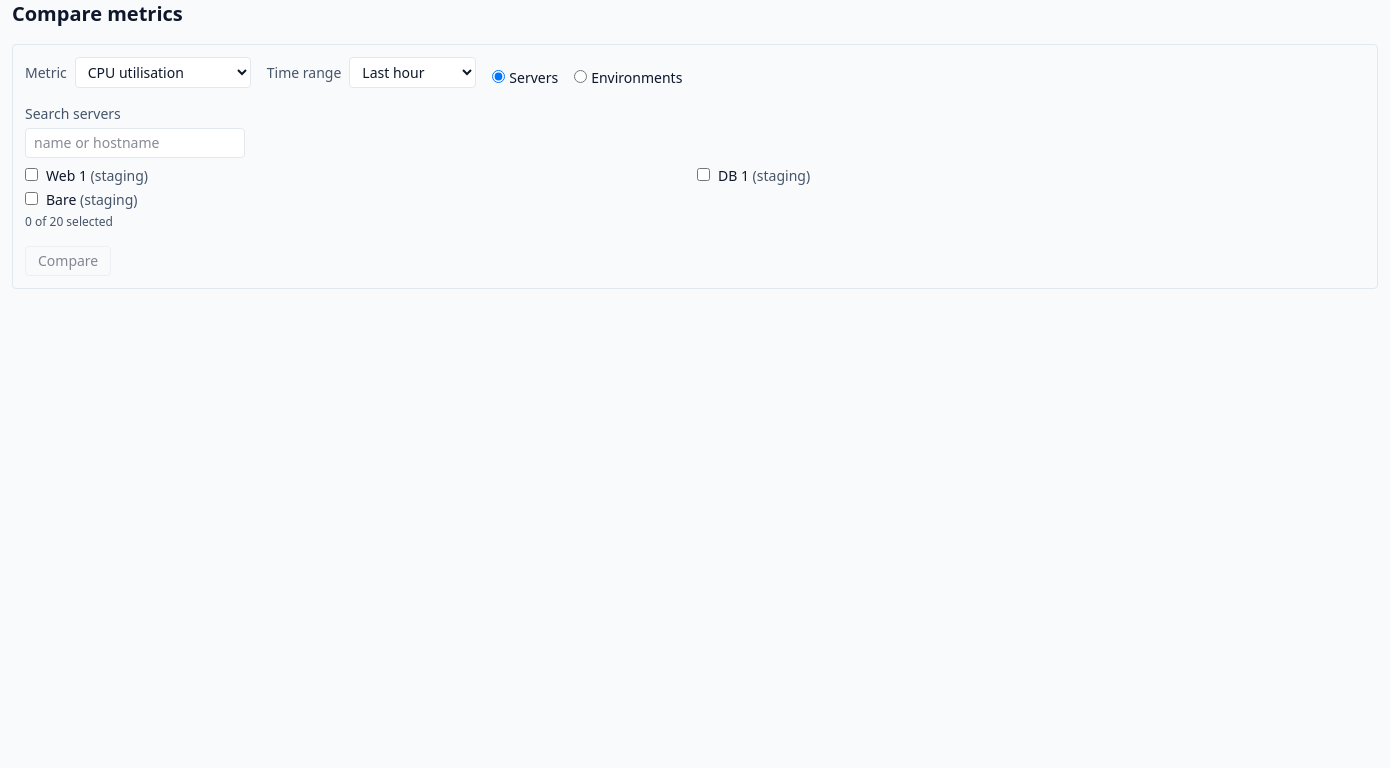
Test: Compare › posts exactly the selection and a window, with no query in it
What coordinates should you click on to do the following:
click the checkbox labelled "Web 1 (staging)"
I would click on:
 (32, 174)
Its box is [25,168,38,181].
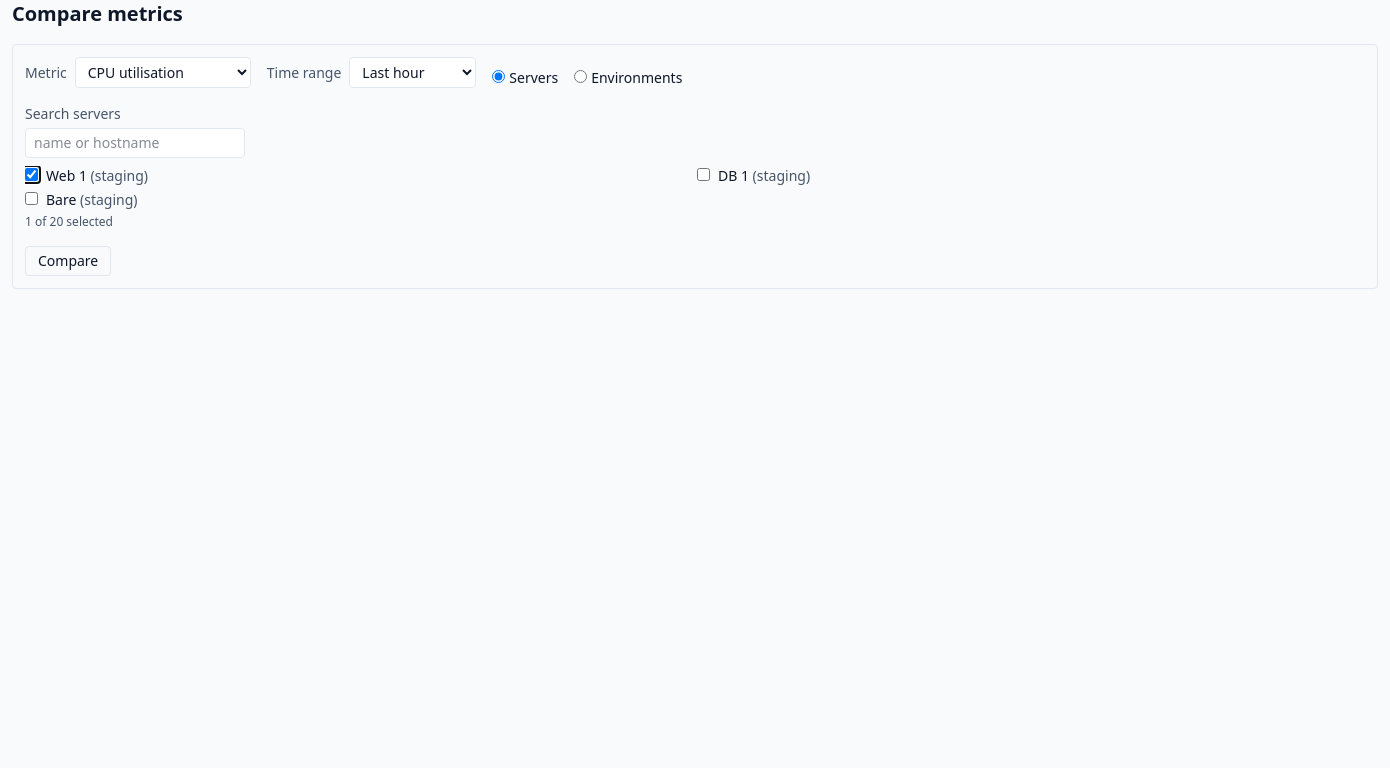
What coordinates should you click on to do the following:
click the checkbox labelled "Bare (staging)"
I would click on:
 (32, 198)
Its box is [25,192,38,205].
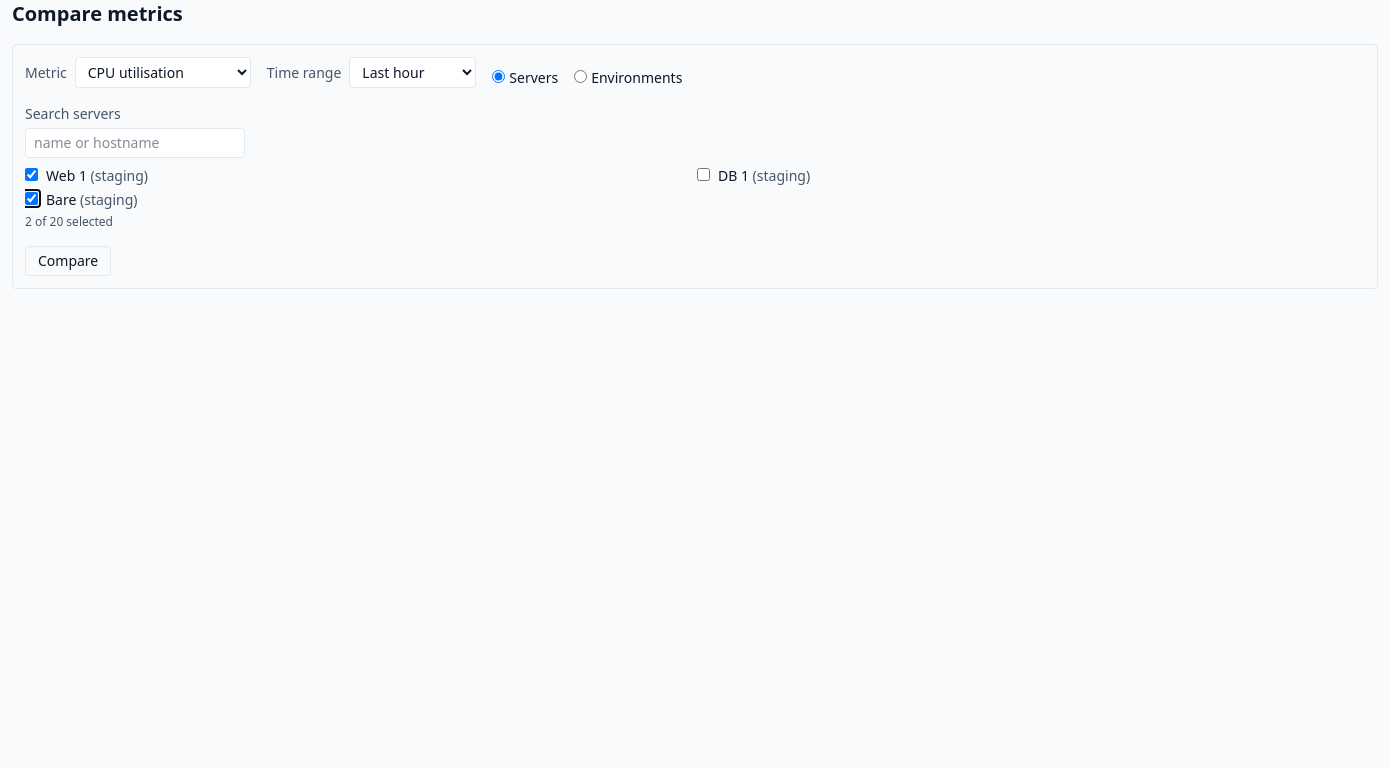
What coordinates should you click on to do the following:
click the button "Compare"
I would click on:
 (68, 261)
Its box is [25,246,111,276].
(page scrolled)
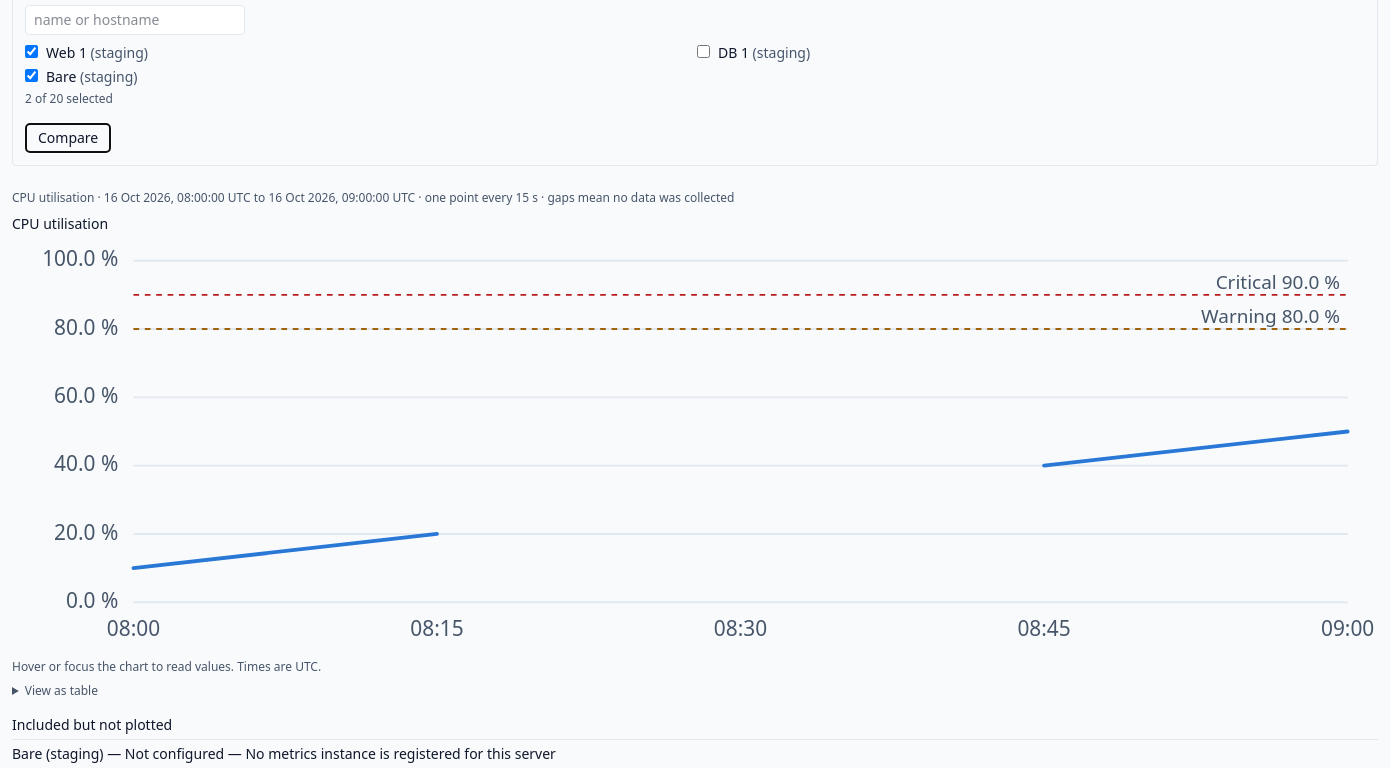
Now the element named "CPU utilisation" is shown, box [12,238,1378,655]
